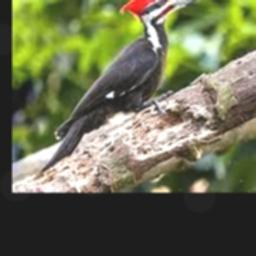Woodpecker: (37, 0, 199, 175)
